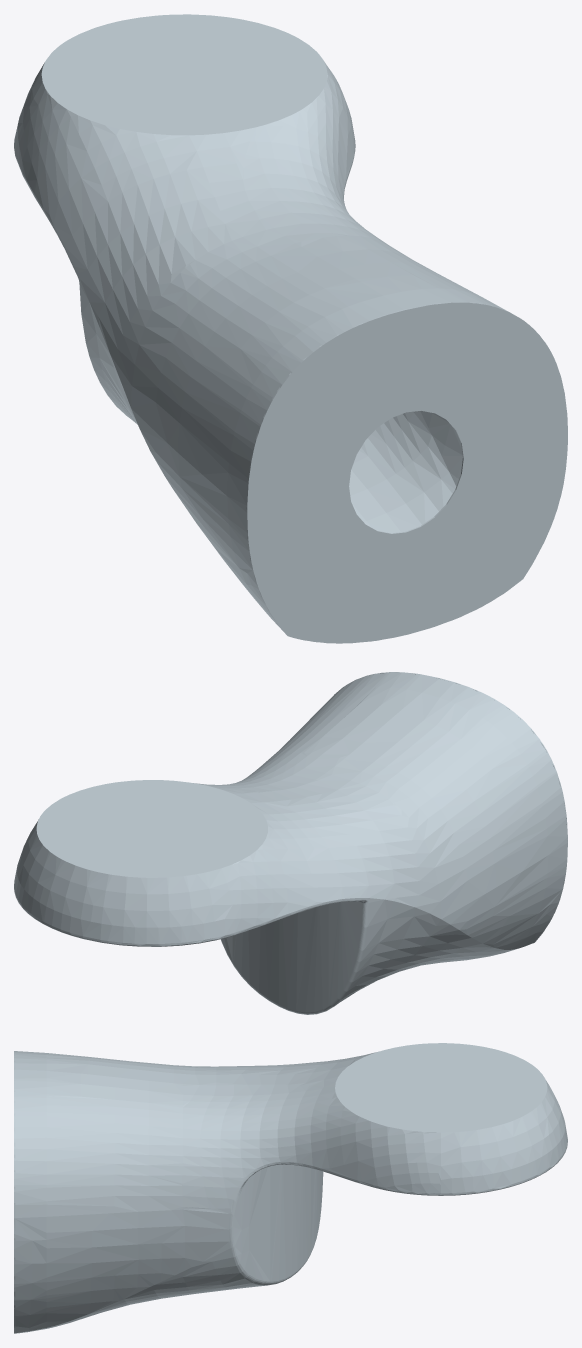
File: left_shoulder_yaw_link.dae
3 views of the same model, one above another, from view 1: azimuth 30°, elevation 25°; view 2: azimuth 150°, elevation 25°; view 3: azimuth 270°, elevation 25° (orthographic). The views are drawn at different scales.
Parts seen in each view (by area): view 1: left_shoulder_yaw_link; view 2: left_shoulder_yaw_link; view 3: left_shoulder_yaw_link.
Boxes of the visible parts, bbox=[...] form: left_shoulder_yaw_link: bbox=[14, 14, 567, 643]; left_shoulder_yaw_link: bbox=[14, 672, 567, 1014]; left_shoulder_yaw_link: bbox=[14, 1043, 567, 1333].
Bounding box in the file's own units: 0.0942 × 0.0805 × 0.1631.
